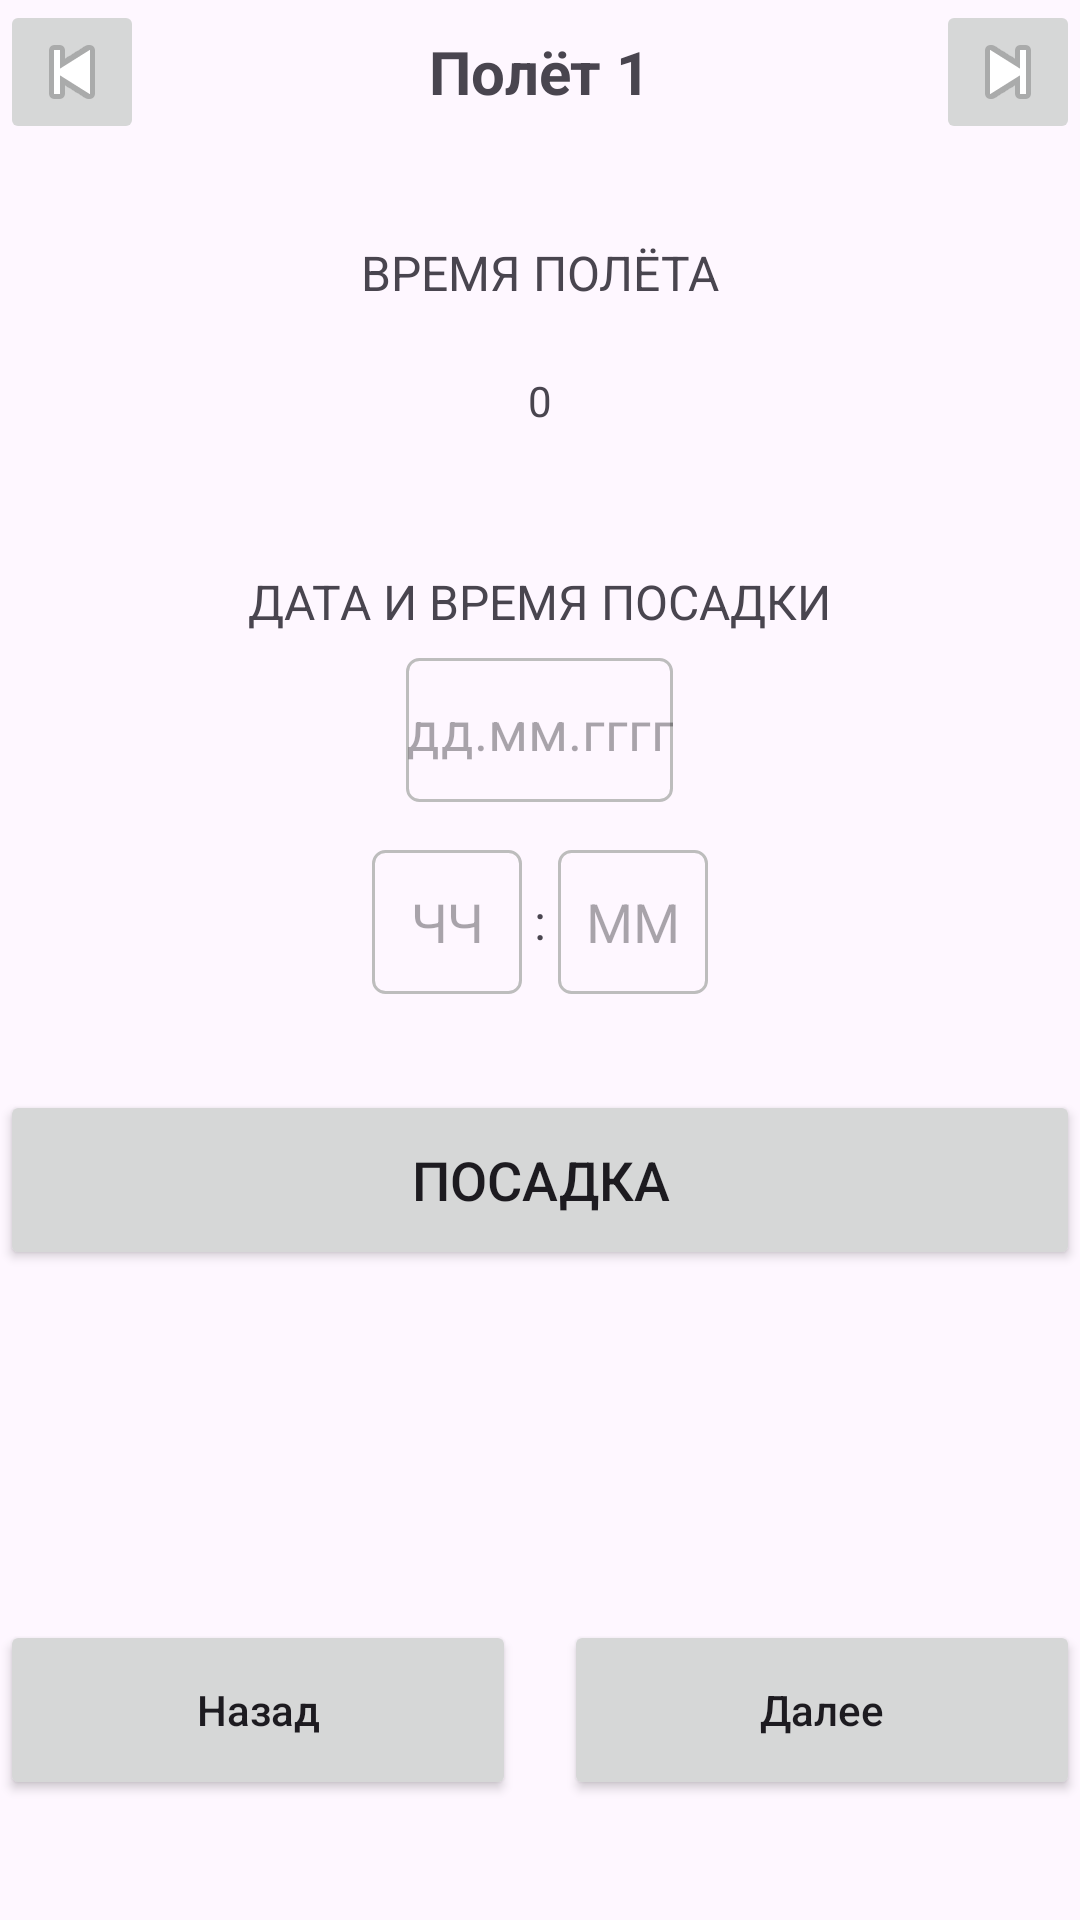

Point at icon controls on the screen. Image size 1080*1920, points as [x,y].
Вперёд: [1008,72]
Назад: [72,72]
